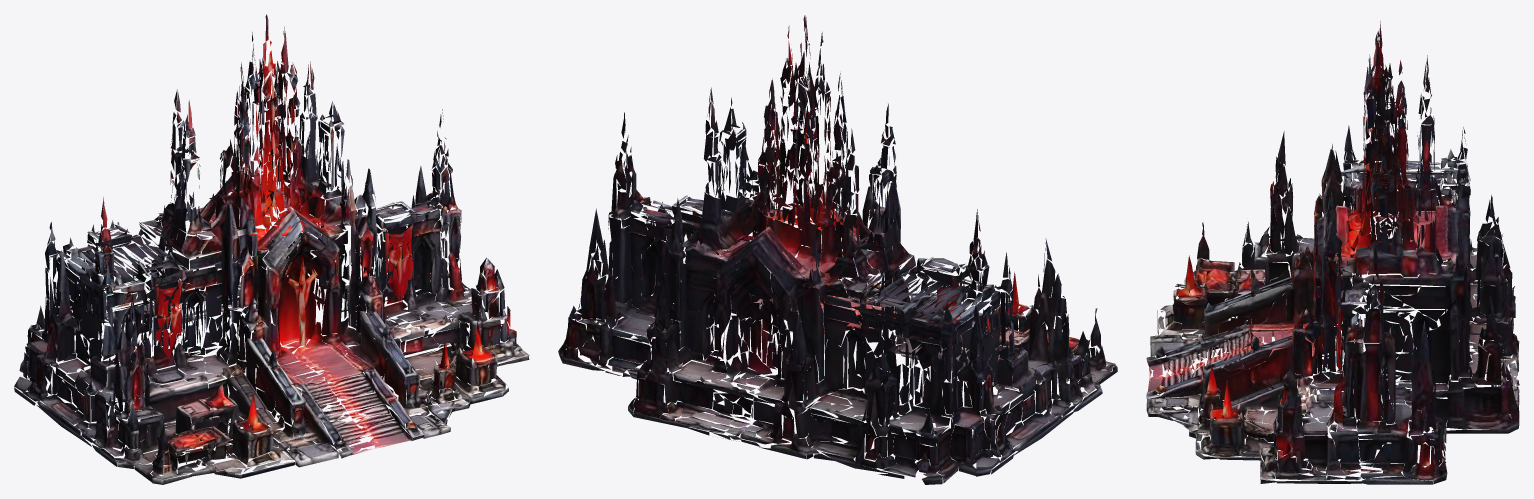
File: HL_Base_Kaijurai_SpikeHive.glb
The picture shows the model from 3 angles, left to right: view 1: azimuth 30°, elevation 25°; view 2: azimuth 150°, elevation 25°; view 3: azimuth 270°, elevation 25°; orthographic projection. The views are drawn at different scales.
Parts seen in each view (by area): view 1: tripo_node_f1d23507-cea3-46ef-acf5-4db807225505; view 2: tripo_node_f1d23507-cea3-46ef-acf5-4db807225505; view 3: tripo_node_f1d23507-cea3-46ef-acf5-4db807225505.
Part boxes in pixels (box(x1,y1,x2,y2)): tripo_node_f1d23507-cea3-46ef-acf5-4db807225505: box(14, 14, 529, 484); tripo_node_f1d23507-cea3-46ef-acf5-4db807225505: box(558, 15, 1117, 484); tripo_node_f1d23507-cea3-46ef-acf5-4db807225505: box(1146, 21, 1519, 484).
Bounding box in the file's own units: 0.9822 × 0.7876 × 0.7263.
1 material, 1 textured.
